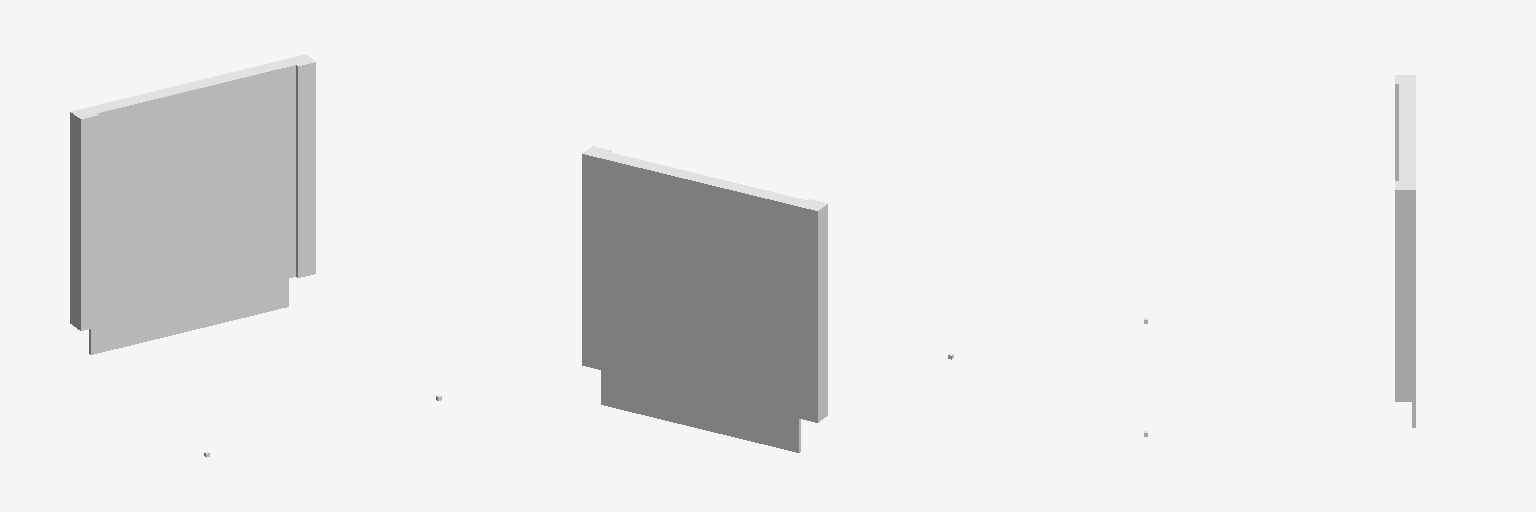
File: Wall-0010.obj
3 renders of one model, left to right at view 1: azimuth 30°, elevation 25°; view 2: azimuth 150°, elevation 25°; view 3: azimuth 270°, elevation 25°, orthographic.
Bounding box in the file's own units: 64 × 64 × 64.